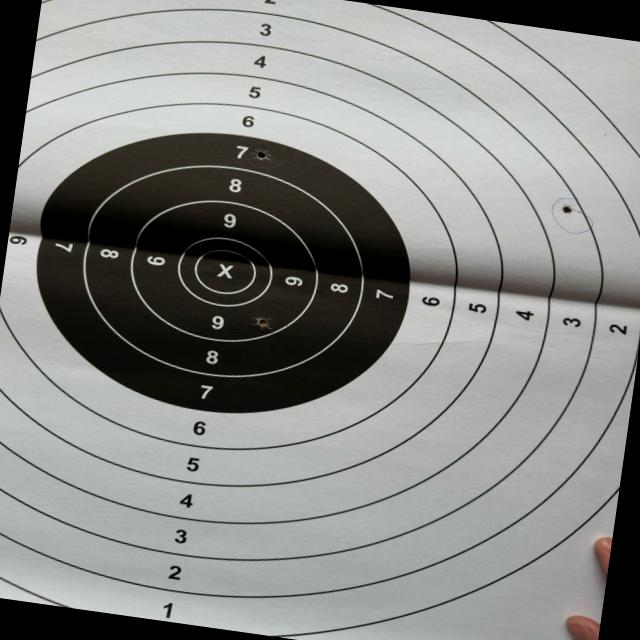bullet: (255, 318, 270, 329), (257, 149, 270, 160), (562, 205, 572, 213)
target: (0, 0, 640, 640)
